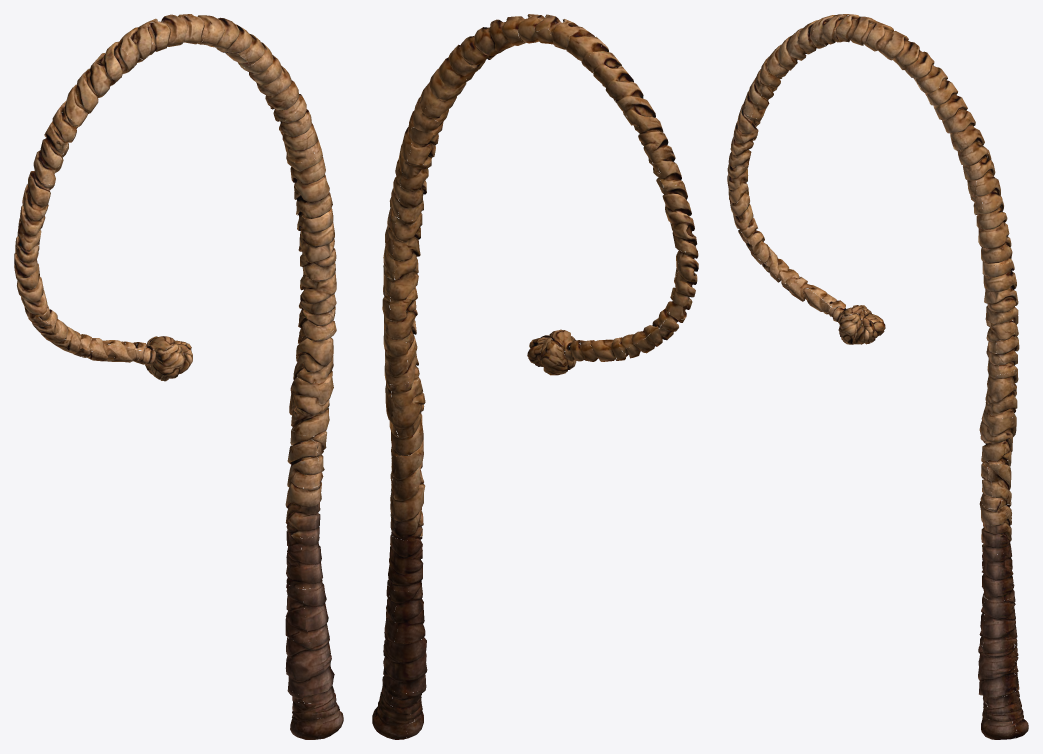
File: whip.glb
The picture shows the model from 3 angles, left to right: view 1: azimuth 30°, elevation 25°; view 2: azimuth 150°, elevation 25°; view 3: azimuth 330°, elevation 25°; orthographic projection. The views are drawn at different scales.
Parts seen in each view (by area): view 1: tripo_node_0db8dfa3-eb60-43cc-b2d5-23210955bf27; view 2: tripo_node_0db8dfa3-eb60-43cc-b2d5-23210955bf27; view 3: tripo_node_0db8dfa3-eb60-43cc-b2d5-23210955bf27.
Part boxes in pixels (x1,y1,x2,y2): tripo_node_0db8dfa3-eb60-43cc-b2d5-23210955bf27: (14, 14, 343, 739); tripo_node_0db8dfa3-eb60-43cc-b2d5-23210955bf27: (372, 14, 698, 739); tripo_node_0db8dfa3-eb60-43cc-b2d5-23210955bf27: (727, 14, 1028, 739).
Bounding box in the file's own units: 0.4487 × 1 × 0.0735.
Materials: 2 (1 with a texture image).
